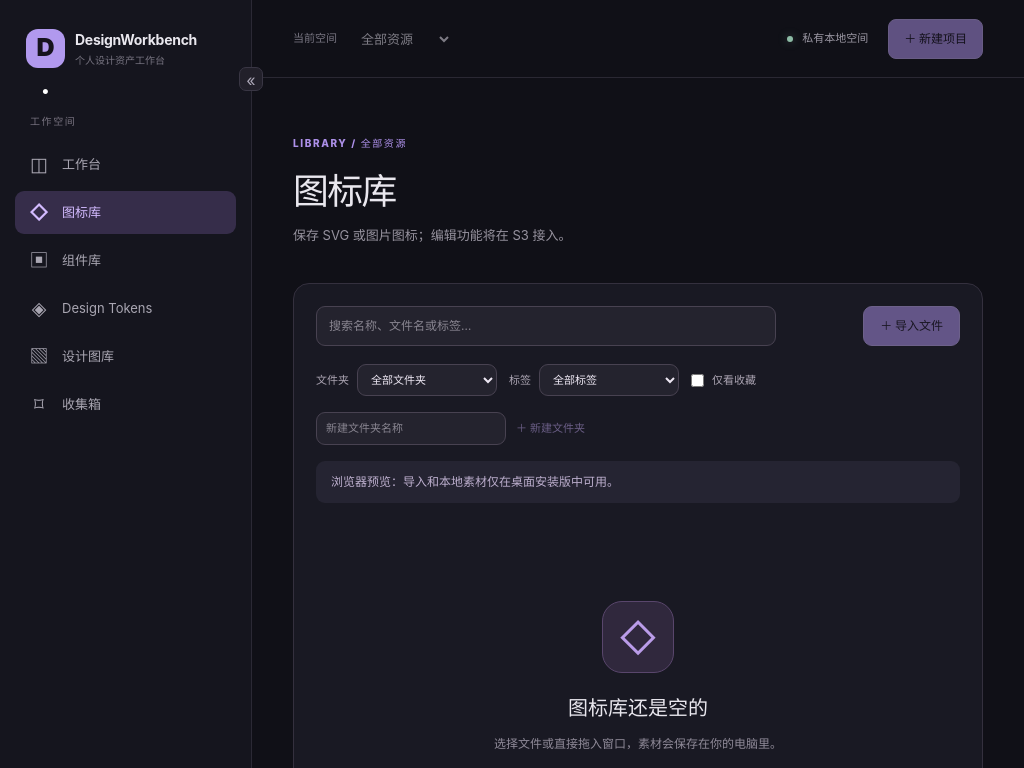
Scenario: browser preview exposes all six routes and identifies native-only project data
The width and height of the screenshot is (1024, 768).
Click the link "◫ 工作台": (66, 164) x1=30 y1=153 x2=101 y2=176
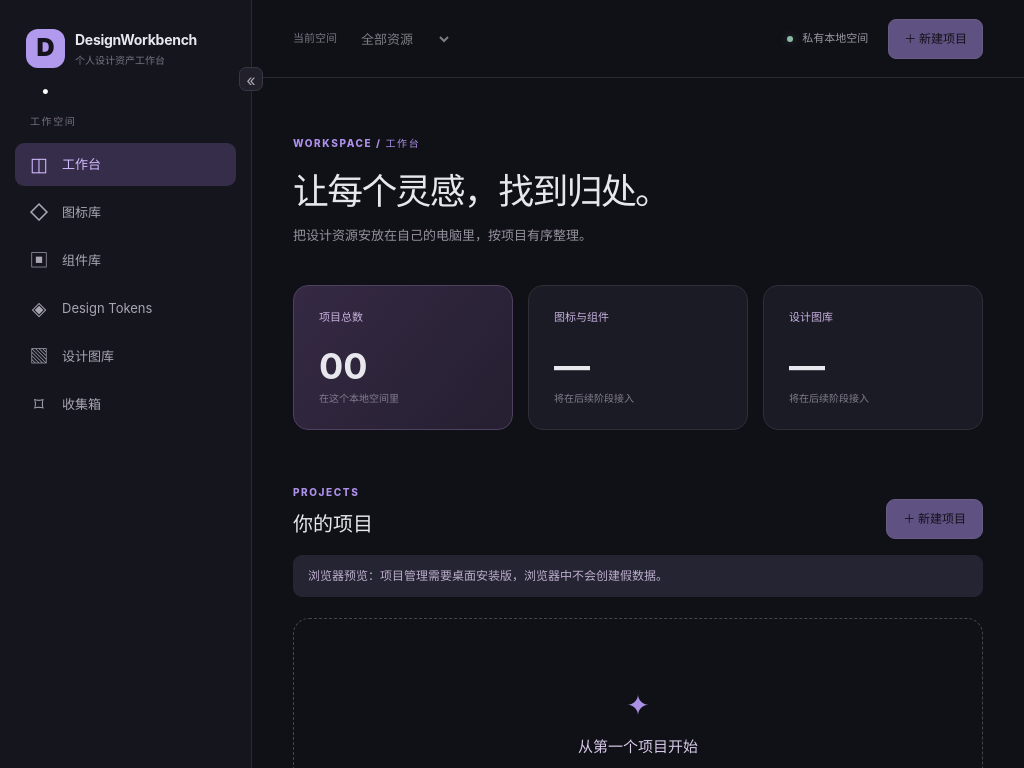
Expected: the message reads "浏览器预览：项目管理需要桌面安装版，浏览器中不会创建假数据。", x1=308 y1=568 x2=668 y2=584
Click the link "◇ 图标库": (65, 212) x1=29 y1=201 x2=101 y2=224
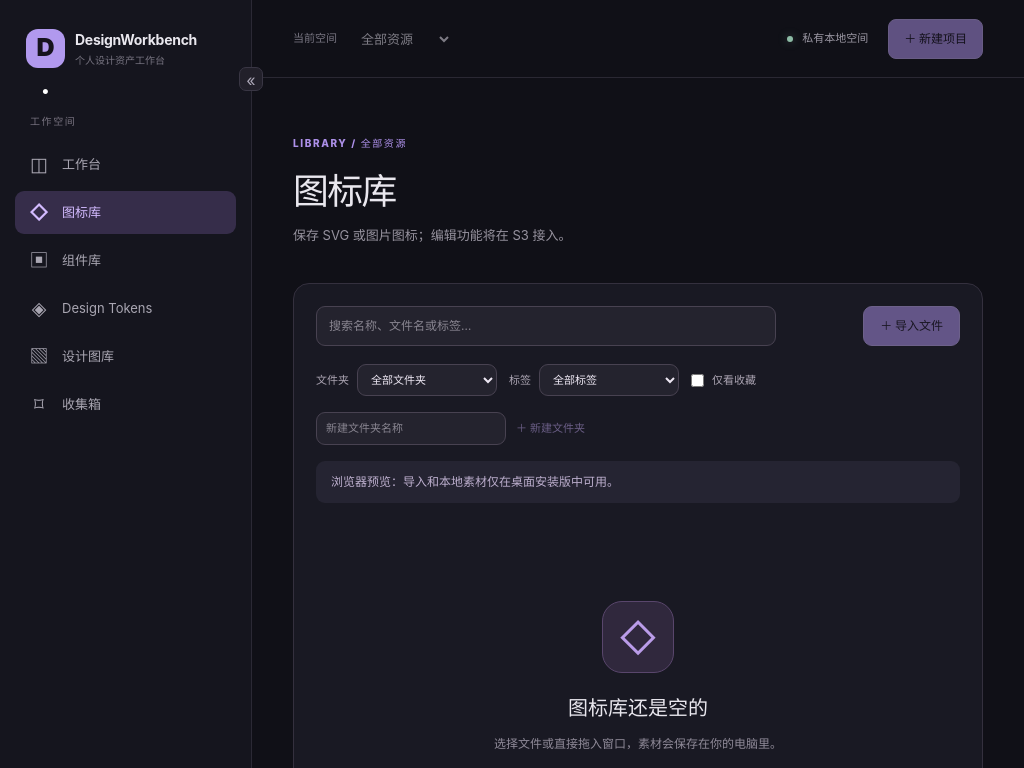
Expected: the heading "图标库" is shown, x1=293 y1=169 x2=396 y2=213
Click the link "▣ 组件库": (65, 260) x1=30 y1=249 x2=101 y2=272
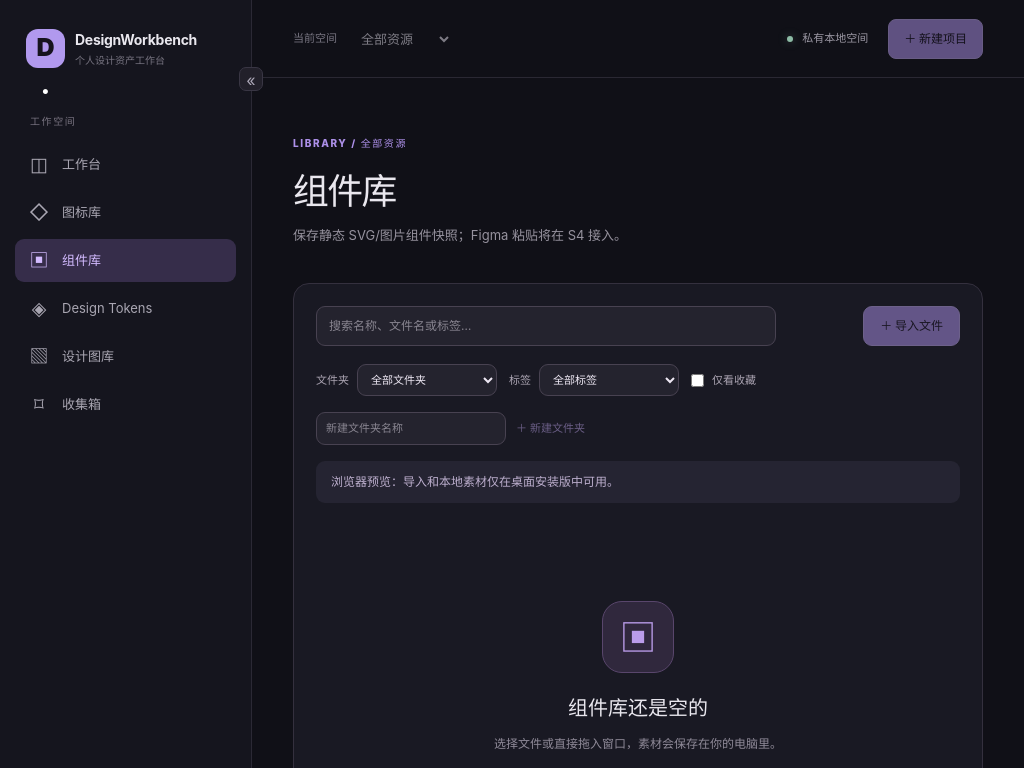
Expected: the heading "组件库" is shown, x1=293 y1=169 x2=396 y2=213
Click the link "◈ Design Tokens": (92, 308) x1=32 y1=297 x2=152 y2=320
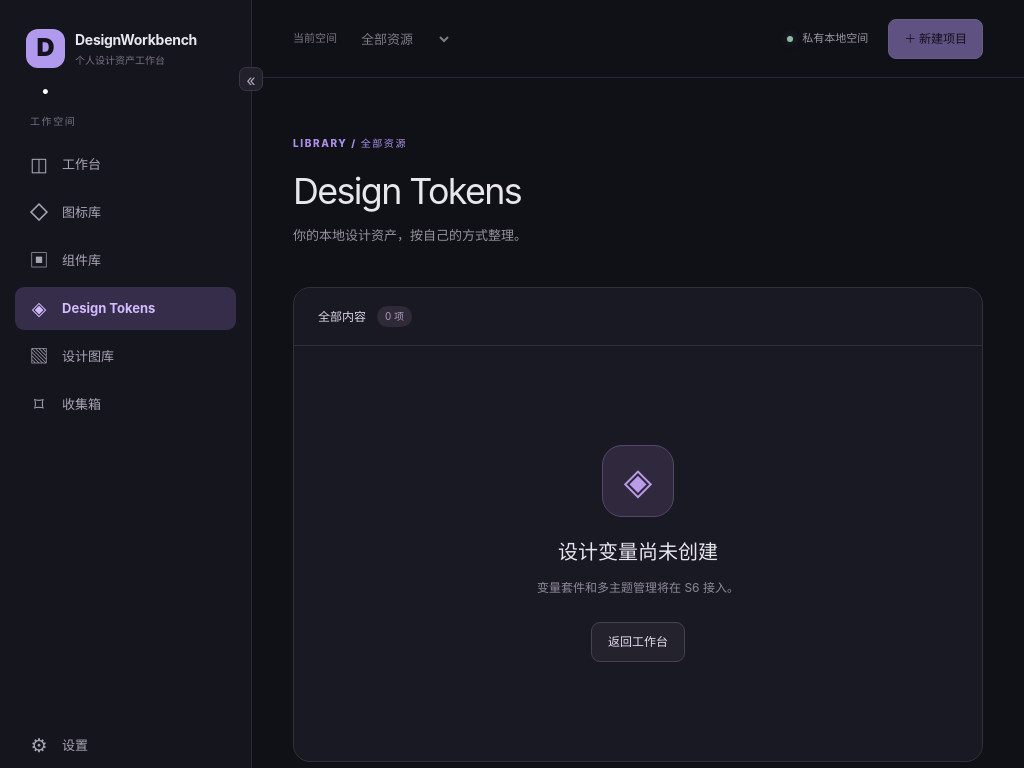
Expected: the heading "Design Tokens" is shown, x1=293 y1=169 x2=521 y2=213
Click the link "▧ 设计图库": (72, 356) x1=30 y1=345 x2=114 y2=368
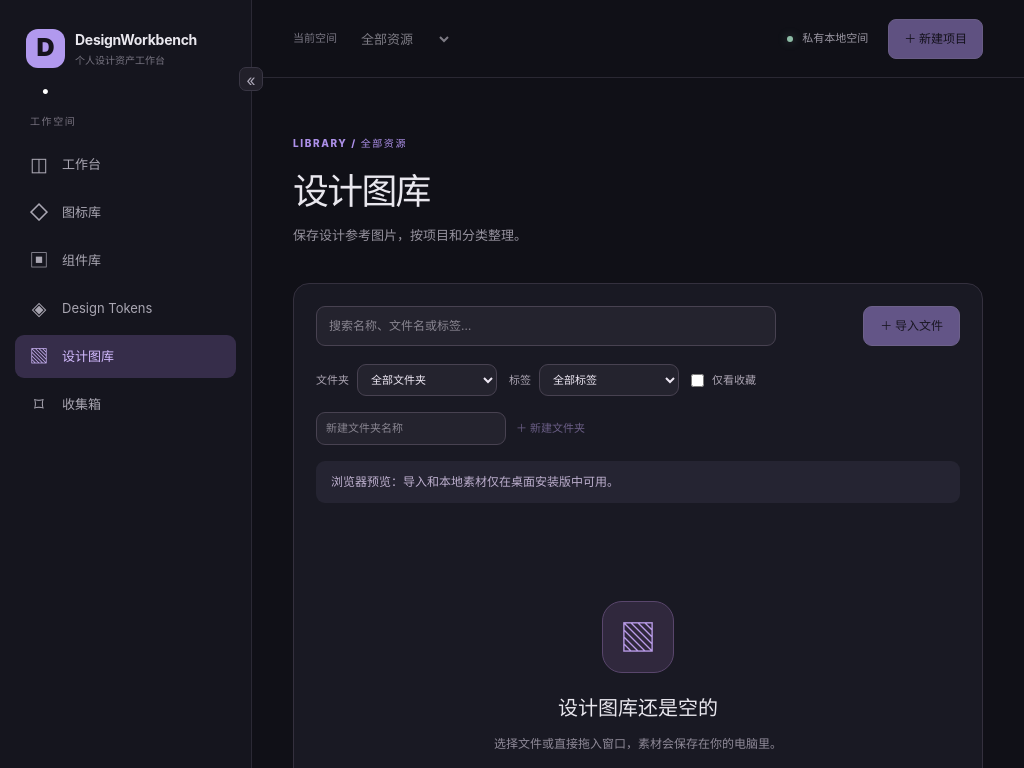
Expected: the heading "设计图库" is shown, x1=293 y1=169 x2=430 y2=213
Click the link "⌑ 收集箱": (68, 404) x1=34 y1=393 x2=101 y2=416
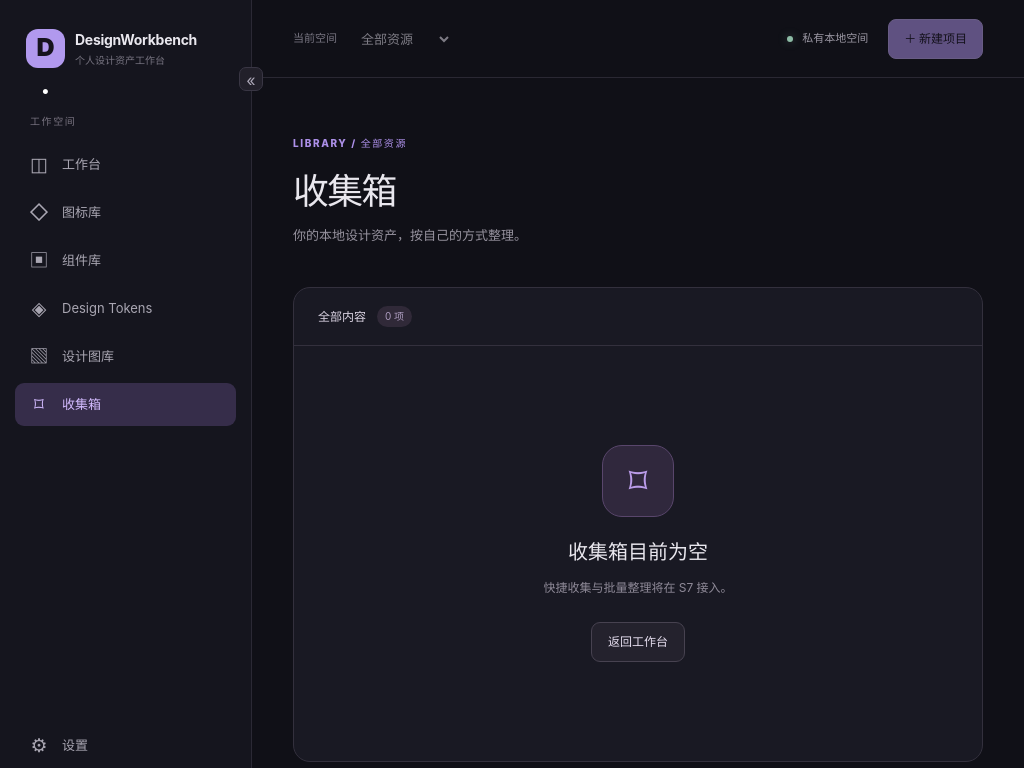
Expected: the heading "收集箱" is shown, x1=293 y1=169 x2=396 y2=213
